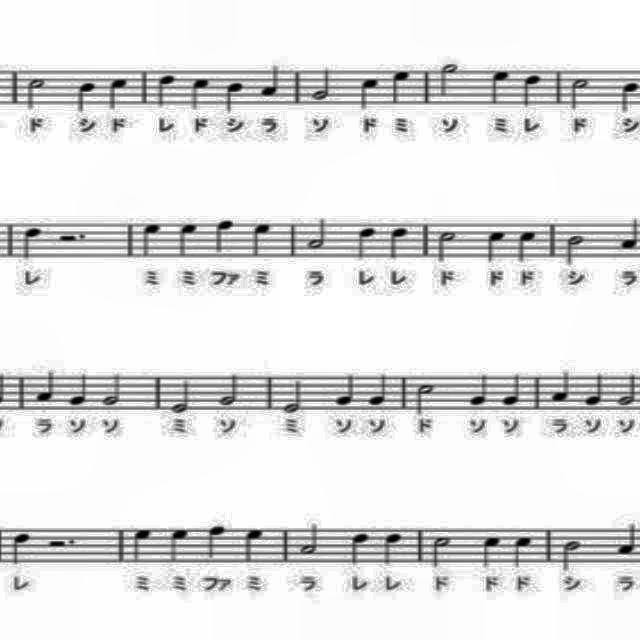Half-note: (559, 223, 591, 271), (408, 374, 440, 418), (280, 369, 308, 417), (434, 224, 462, 270), (20, 74, 52, 114), (218, 367, 246, 411), (308, 62, 336, 104), (428, 528, 457, 568), (437, 54, 461, 102), (294, 519, 322, 557), (100, 368, 124, 412), (306, 210, 330, 253), (560, 534, 584, 576), (568, 76, 592, 116), (168, 377, 192, 417), (616, 374, 640, 411)
Half-rest: (44, 529, 80, 553), (52, 227, 92, 247)
Quarter-note: (18, 218, 50, 266), (32, 360, 62, 408), (462, 368, 493, 414), (65, 366, 97, 409), (348, 223, 380, 264), (104, 72, 136, 112), (238, 524, 270, 564), (138, 218, 164, 266), (247, 218, 273, 266), (611, 516, 640, 559), (354, 72, 382, 116), (486, 64, 514, 108), (174, 218, 202, 262), (210, 216, 238, 260), (546, 364, 574, 408), (332, 369, 361, 411), (152, 71, 184, 109), (386, 67, 414, 109), (386, 221, 414, 263), (481, 226, 509, 268), (581, 367, 607, 411), (203, 520, 229, 564), (498, 372, 526, 412), (478, 534, 506, 574), (514, 225, 538, 271), (130, 522, 154, 568), (363, 374, 392, 412), (72, 76, 100, 115), (221, 76, 247, 115), (166, 525, 190, 567), (188, 74, 212, 114), (258, 61, 282, 101), (8, 530, 32, 570), (513, 532, 537, 572), (616, 214, 640, 253), (346, 528, 369, 568), (380, 530, 404, 568), (520, 72, 544, 108), (619, 78, 640, 117), (639, 516, 640, 559), (639, 78, 640, 117)
